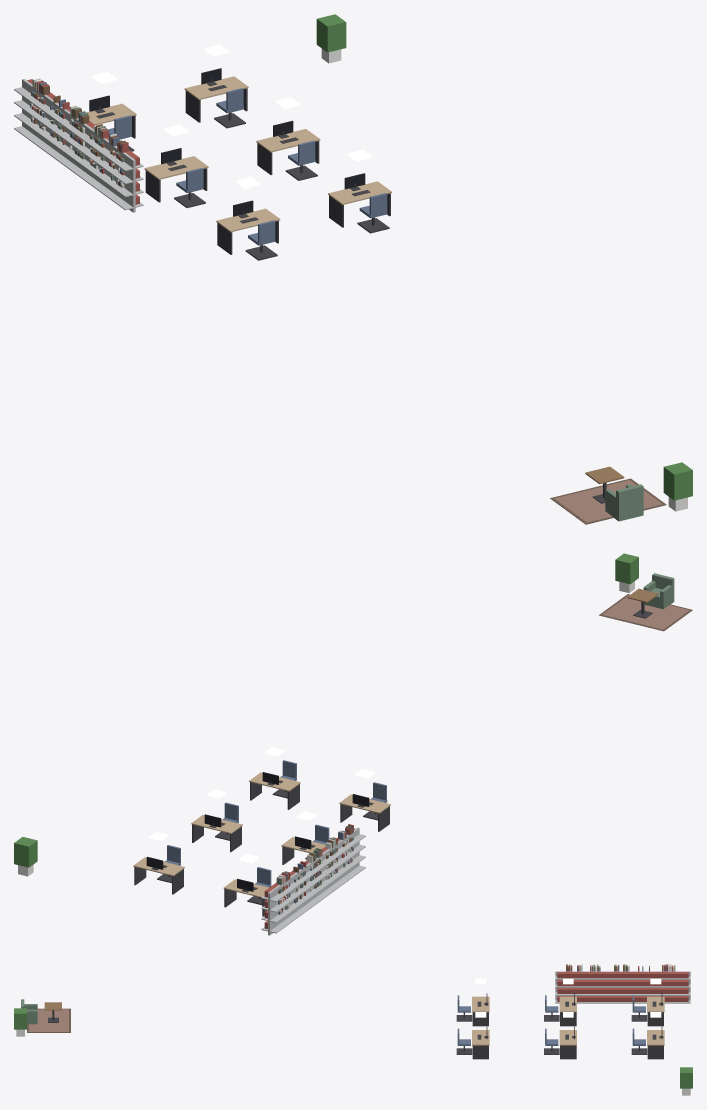
File: fine-s2.glb
The picture shows the model from 3 angles, top to bottom: view 1: azimuth 30°, elevation 25°; view 2: azimuth 150°, elevation 25°; view 3: azimuth 270°, elevation 25°; orthographic projection. The views are drawn at different scales.
Visible parts, largest first — view 1: soft-s2, shelving.010, shelving.006, office-desk-real.008, office-desk-real.007, office-desk-real.009, office-desk-real.010, office-desk-real.011, shelving.009, shelving.007, shelving.008, plant-medium.003 (+8 smaller); view 2: soft-s2, shelving.006, office-desk-real.011, shelving.009, office-desk-real.010, office-desk-real.007, office-desk-real.009, shelving.010, shelving.007, sofa.001, plant-medium.003, plant-medium.002 (+3 smaller); view 3: soft-s2, shelving.006, shelving.009, shelving.008, shelving.010, shelving.007, office-desk-real.007, office-desk-real.011, office-desk-real.009, office-desk-real.006, office-desk-real.010, office-desk-real.008 (+10 smaller).
Boxes of the visible parts, left/top/right/bottom form: soft-s2: left=30, top=78, right=666, bottom=524; shelving.010: left=93, top=137, right=143, bottom=212; shelving.006: left=14, top=79, right=54, bottom=151; office-desk-real.008: left=144, top=148, right=208, bottom=202; office-desk-real.007: left=184, top=68, right=248, bottom=122; office-desk-real.009: left=256, top=120, right=320, bottom=174; office-desk-real.010: left=216, top=200, right=280, bottom=254; office-desk-real.011: left=328, top=173, right=391, bottom=227; shelving.009: left=73, top=122, right=113, bottom=195; shelving.007: left=34, top=93, right=73, bottom=166; shelving.008: left=54, top=109, right=95, bottom=180; plant-medium.003: left=316, top=14, right=346, bottom=63; soft-s2: left=276, top=594, right=692, bottom=914; shelving.006: left=261, top=874, right=302, bottom=935; office-desk-real.011: left=249, top=772, right=300, bottom=809; shelving.009: left=317, top=840, right=350, bottom=897; office-desk-real.010: left=339, top=794, right=390, bottom=831; office-desk-real.007: left=133, top=856, right=184, bottom=894; office-desk-real.009: left=191, top=814, right=242, bottom=852; shelving.010: left=334, top=827, right=365, bottom=885; shelving.007: left=287, top=862, right=318, bottom=920; sofa.001: left=643, top=573, right=674, bottom=609; plant-medium.003: left=14, top=837, right=37, bottom=876; plant-medium.002: left=615, top=553, right=638, bottom=592; soft-s2: left=27, top=964, right=675, bottom=1032; shelving.006: left=651, top=971, right=690, bottom=1003; shelving.009: left=579, top=971, right=618, bottom=1003; shelving.008: left=603, top=971, right=642, bottom=1003; shelving.010: left=555, top=971, right=594, bottom=1003; shelving.007: left=627, top=971, right=666, bottom=1003; office-desk-real.007: left=647, top=1027, right=664, bottom=1059; office-desk-real.011: left=472, top=1027, right=489, bottom=1059; office-desk-real.009: left=559, top=1026, right=576, bottom=1059; office-desk-real.006: left=647, top=993, right=664, bottom=1026; office-desk-real.010: left=472, top=993, right=489, bottom=1026; office-desk-real.008: left=559, top=993, right=576, bottom=1026.
Size of the model in its own units: 10.41 by 1.93 by 31.04.
